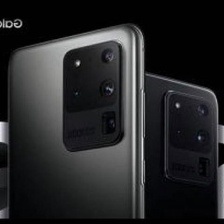phone: (2, 19, 147, 224), (96, 63, 221, 223)
